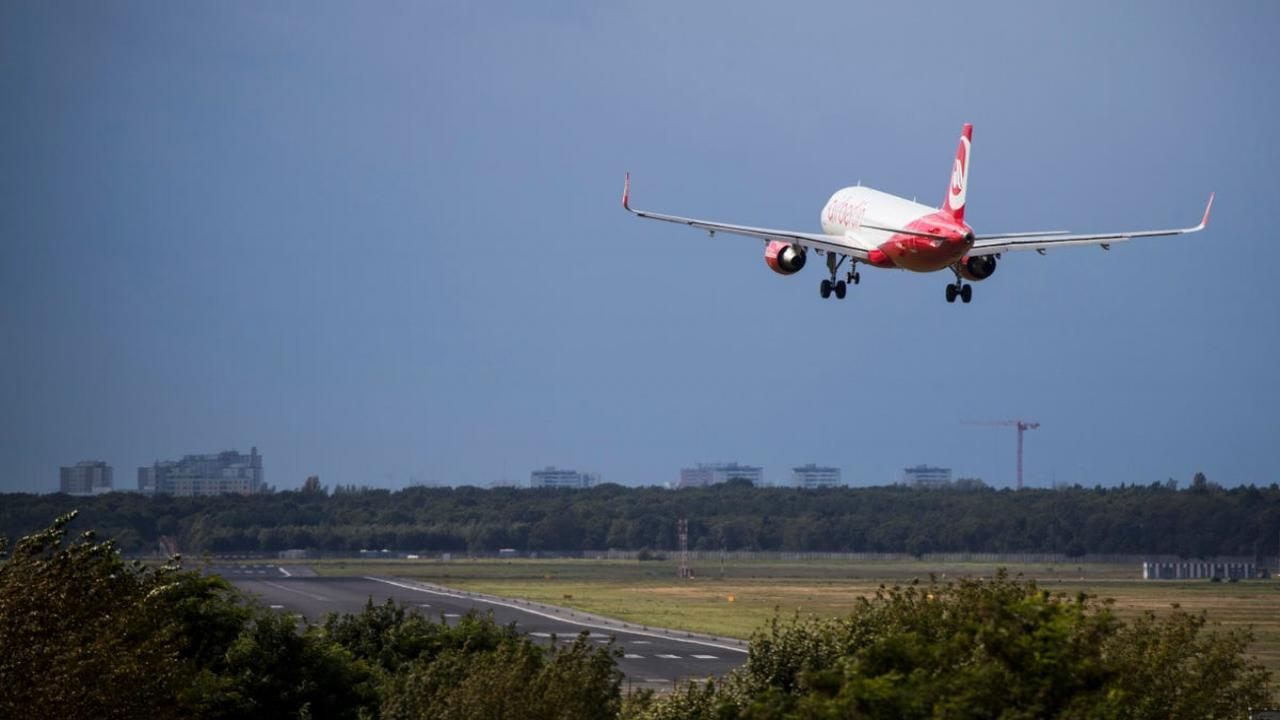Airplane: (602, 112, 1229, 313)
